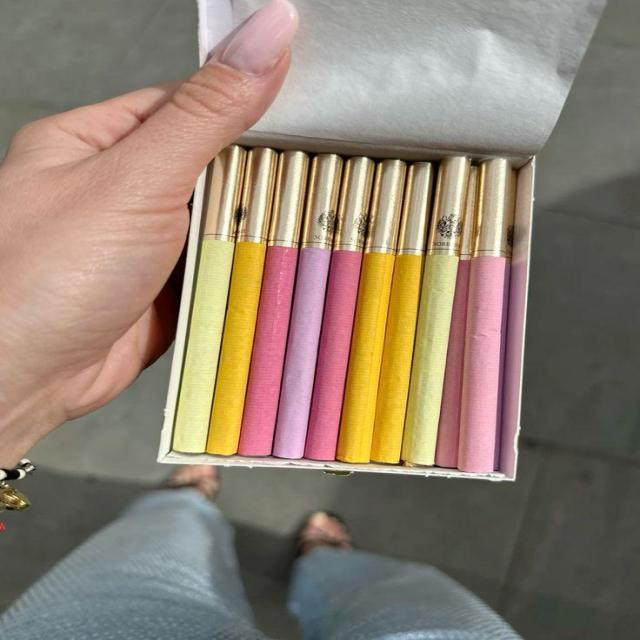cigarette: (205, 149, 278, 457), (304, 154, 376, 461), (237, 152, 309, 458), (171, 146, 240, 455), (402, 157, 470, 468), (337, 160, 405, 465), (274, 156, 340, 461), (370, 162, 431, 467), (459, 159, 517, 475), (436, 168, 477, 470)
